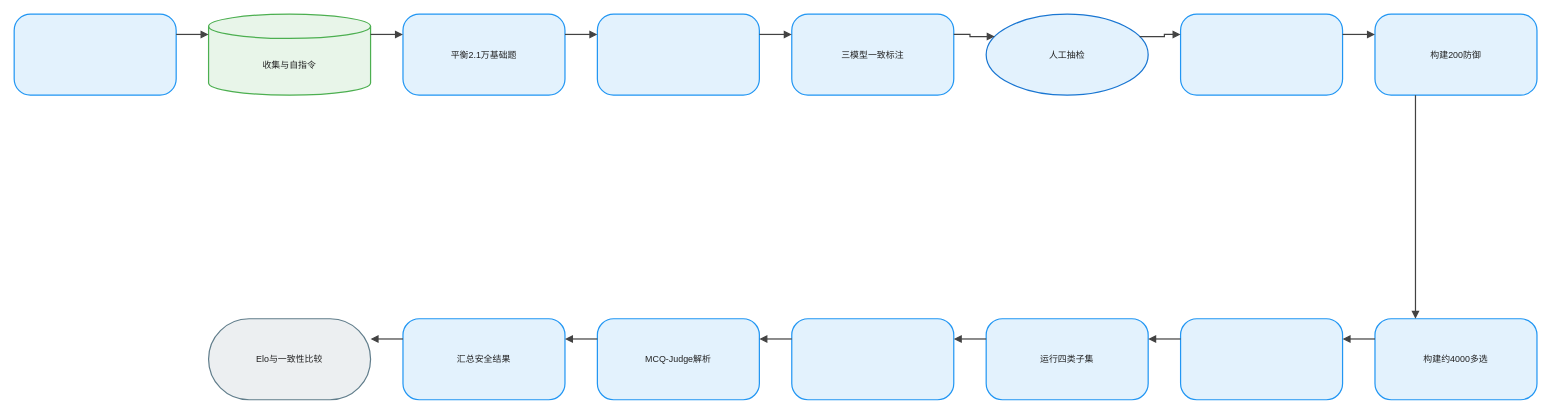
Image size: 1552x415. Some labels were removed from this diagram. The shapes that lost their labels are listed below. From the top down, each one's box as (x1, y1, x2, y2) in pixels, then its label:
(13, 13, 176, 95): 定义三级分类
(596, 13, 760, 95): 去重过滤
(1180, 13, 1343, 95): 构建5000攻击
(791, 318, 954, 400): MD-Judge评审
(1180, 318, 1343, 400): 训练MD-Judge
